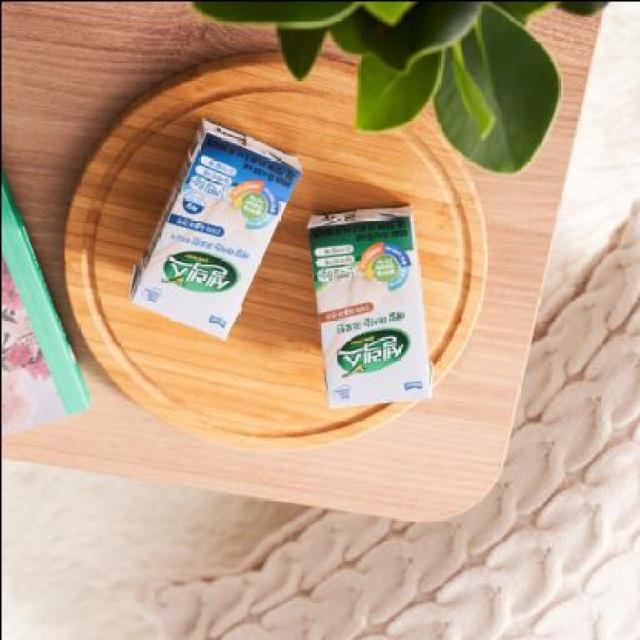tetra: (104, 101, 302, 362), (291, 193, 464, 430)
